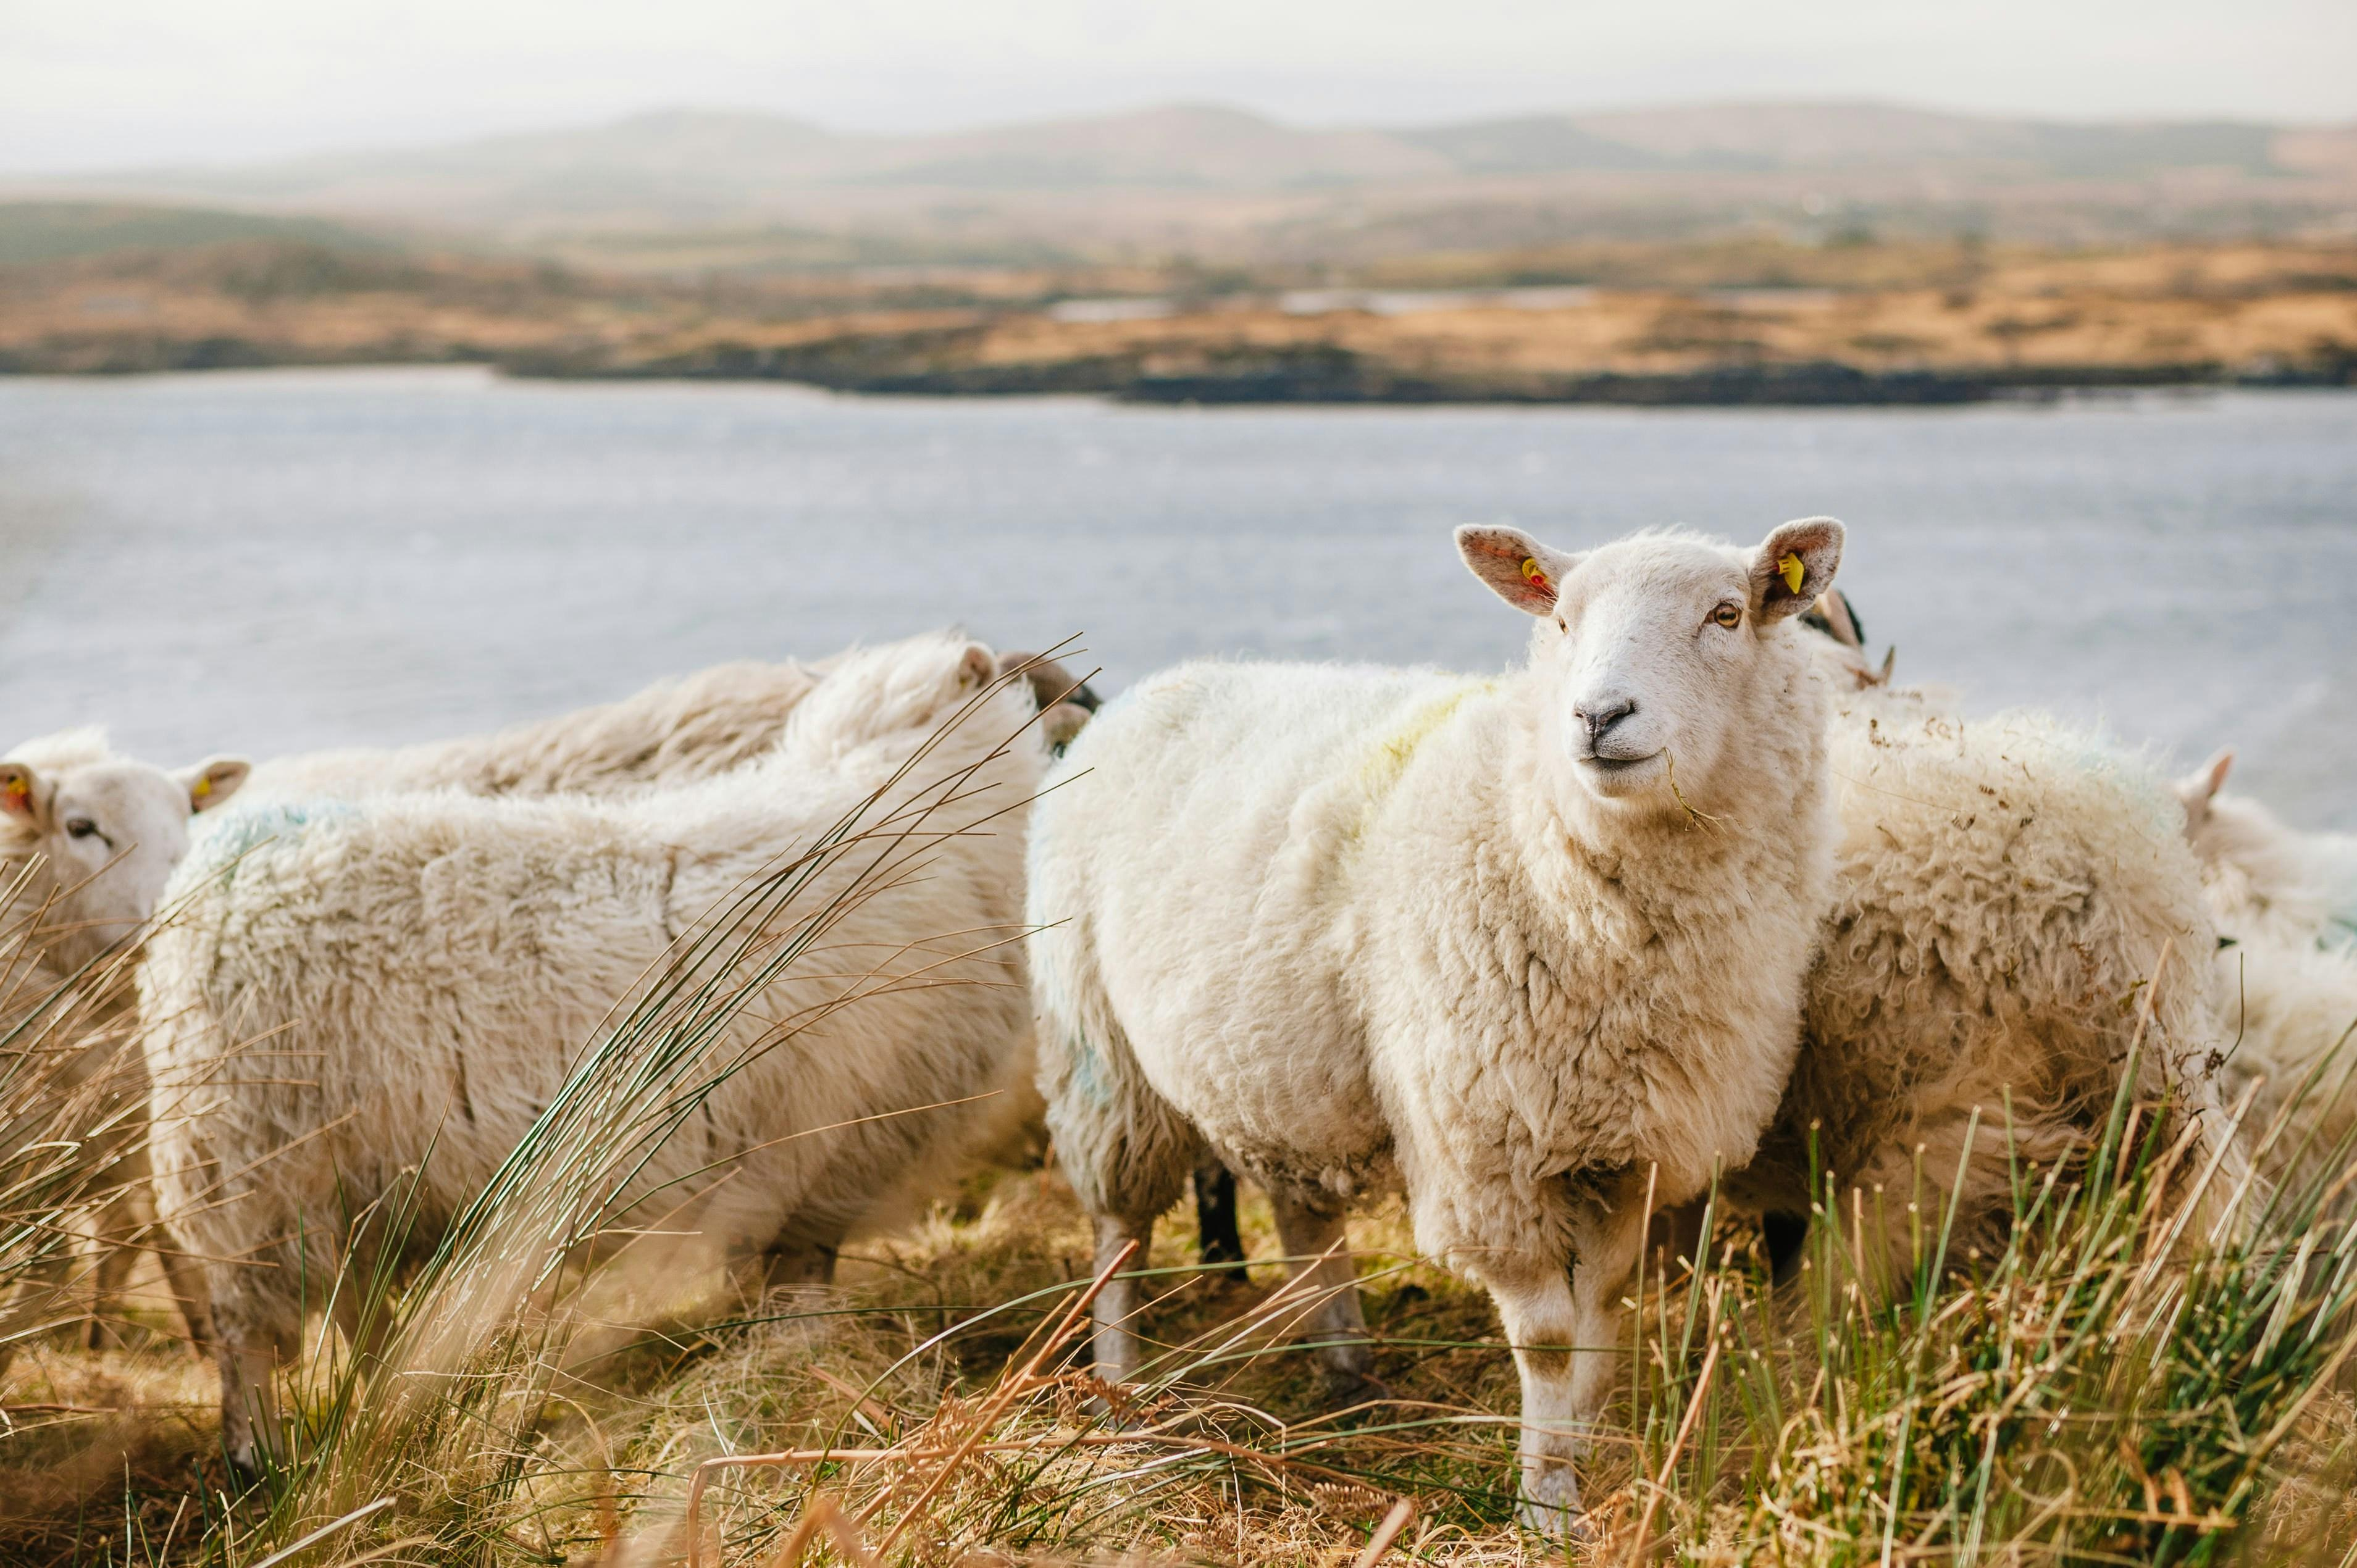sheep: (1025, 514, 1846, 1545), (136, 640, 1101, 1496), (1806, 710, 2243, 1311), (0, 752, 254, 1379)
